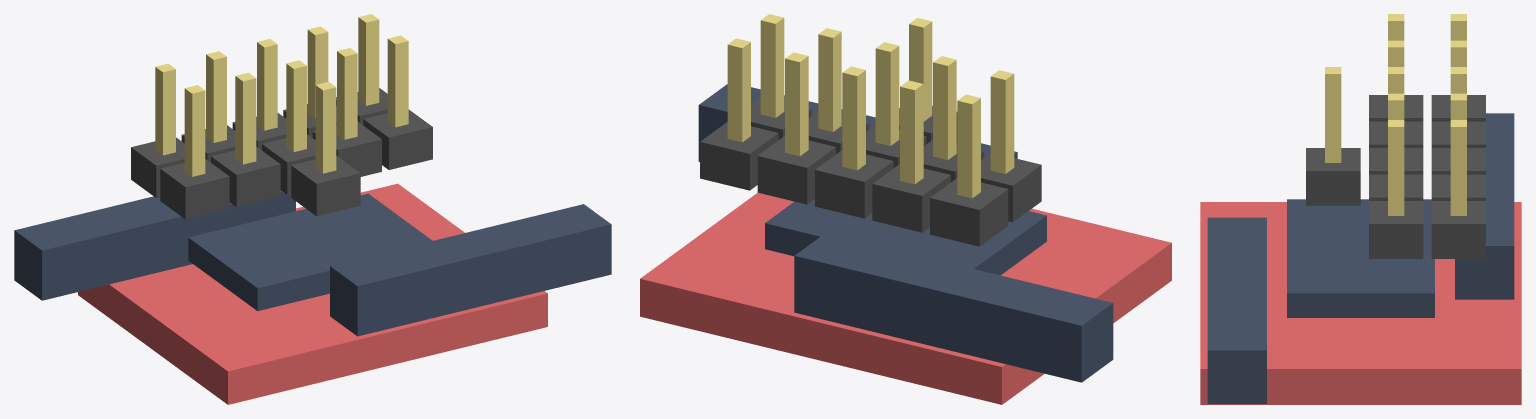
The model's file is logic-level-shifter-4ch.glb.
3 renders of one model, left to right at view 1: azimuth 30°, elevation 25°; view 2: azimuth 150°, elevation 25°; view 3: azimuth 270°, elevation 25°, orthographic. The views are drawn at different scales.
Visible parts, largest first — view 1: logic-level-shifter-4ch_mesh; view 2: logic-level-shifter-4ch_mesh; view 3: logic-level-shifter-4ch_mesh.
Part boxes in pixels (x1,y1,x2,y2): logic-level-shifter-4ch_mesh: (14,14,611,404); logic-level-shifter-4ch_mesh: (640,14,1171,404); logic-level-shifter-4ch_mesh: (1200,14,1521,404).
Bounding box in the file's own units: 22.7 × 11.2 × 13.
